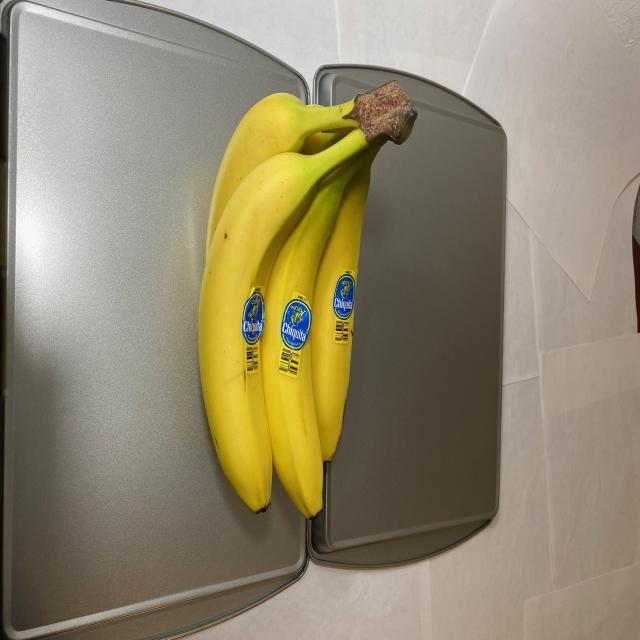banana: (198, 73, 418, 521)
